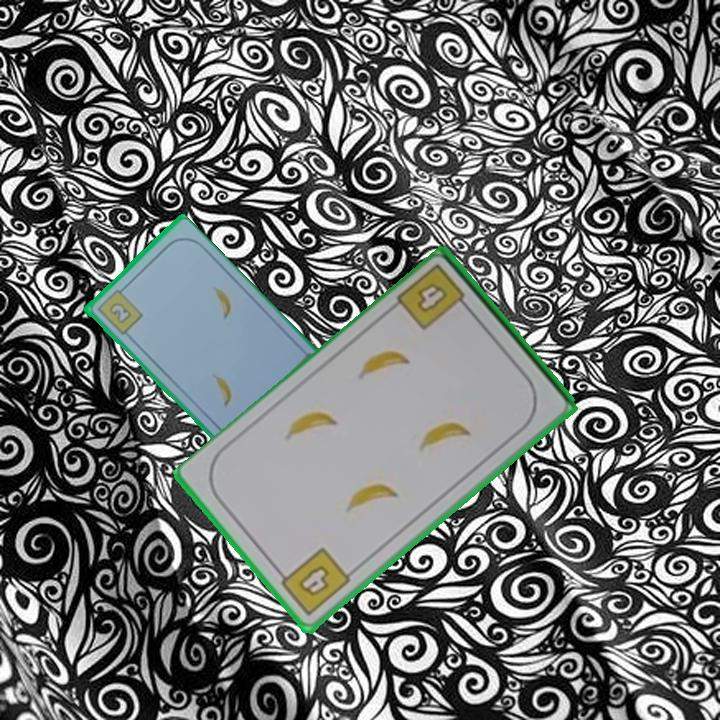2b: (93, 283, 145, 337)
4b: (273, 543, 354, 619), (393, 260, 475, 334)
